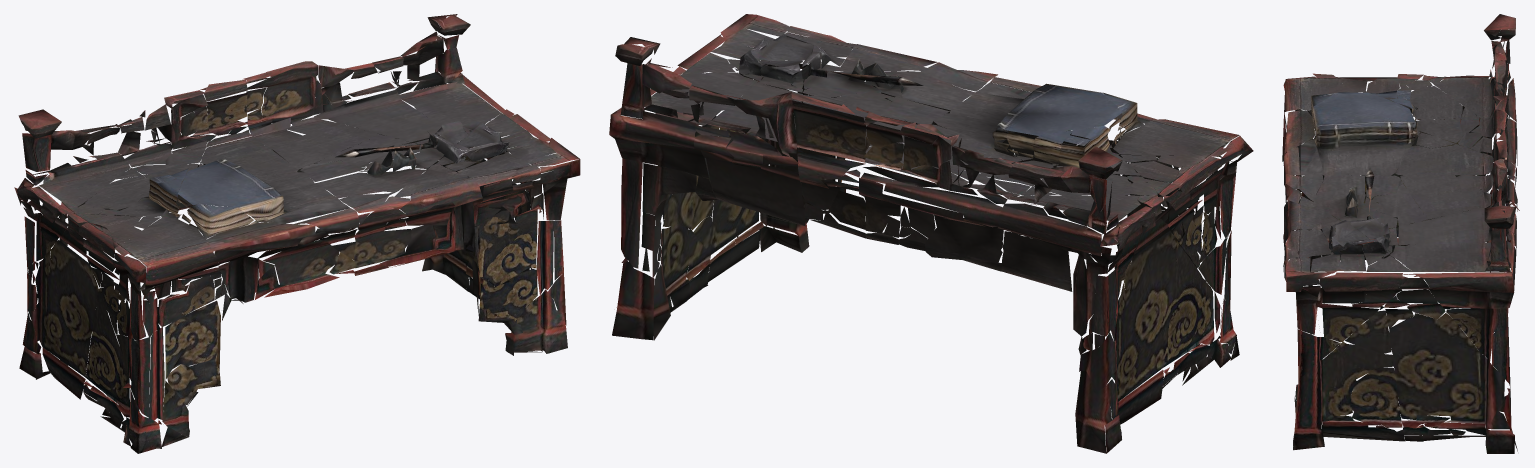
File: judge_desk.glb
3 views of the same model, side by side, from view 1: azimuth 30°, elevation 25°; view 2: azimuth 150°, elevation 25°; view 3: azimuth 270°, elevation 25° (orthographic). The views are drawn at different scales.
Parts seen in each view (by area): view 1: tripo_node_c681d98e-d807-41f9-8e47-7e2a985f00ed; view 2: tripo_node_c681d98e-d807-41f9-8e47-7e2a985f00ed; view 3: tripo_node_c681d98e-d807-41f9-8e47-7e2a985f00ed.
Boxes of the visible parts, x1,y1,x2,y2 form: tripo_node_c681d98e-d807-41f9-8e47-7e2a985f00ed: (14, 14, 580, 453); tripo_node_c681d98e-d807-41f9-8e47-7e2a985f00ed: (609, 14, 1253, 453); tripo_node_c681d98e-d807-41f9-8e47-7e2a985f00ed: (1282, 14, 1519, 453).
Bounding box in the file's own units: 0.9863 × 0.5365 × 0.4854.
Materials: 1 (1 with a texture image).
